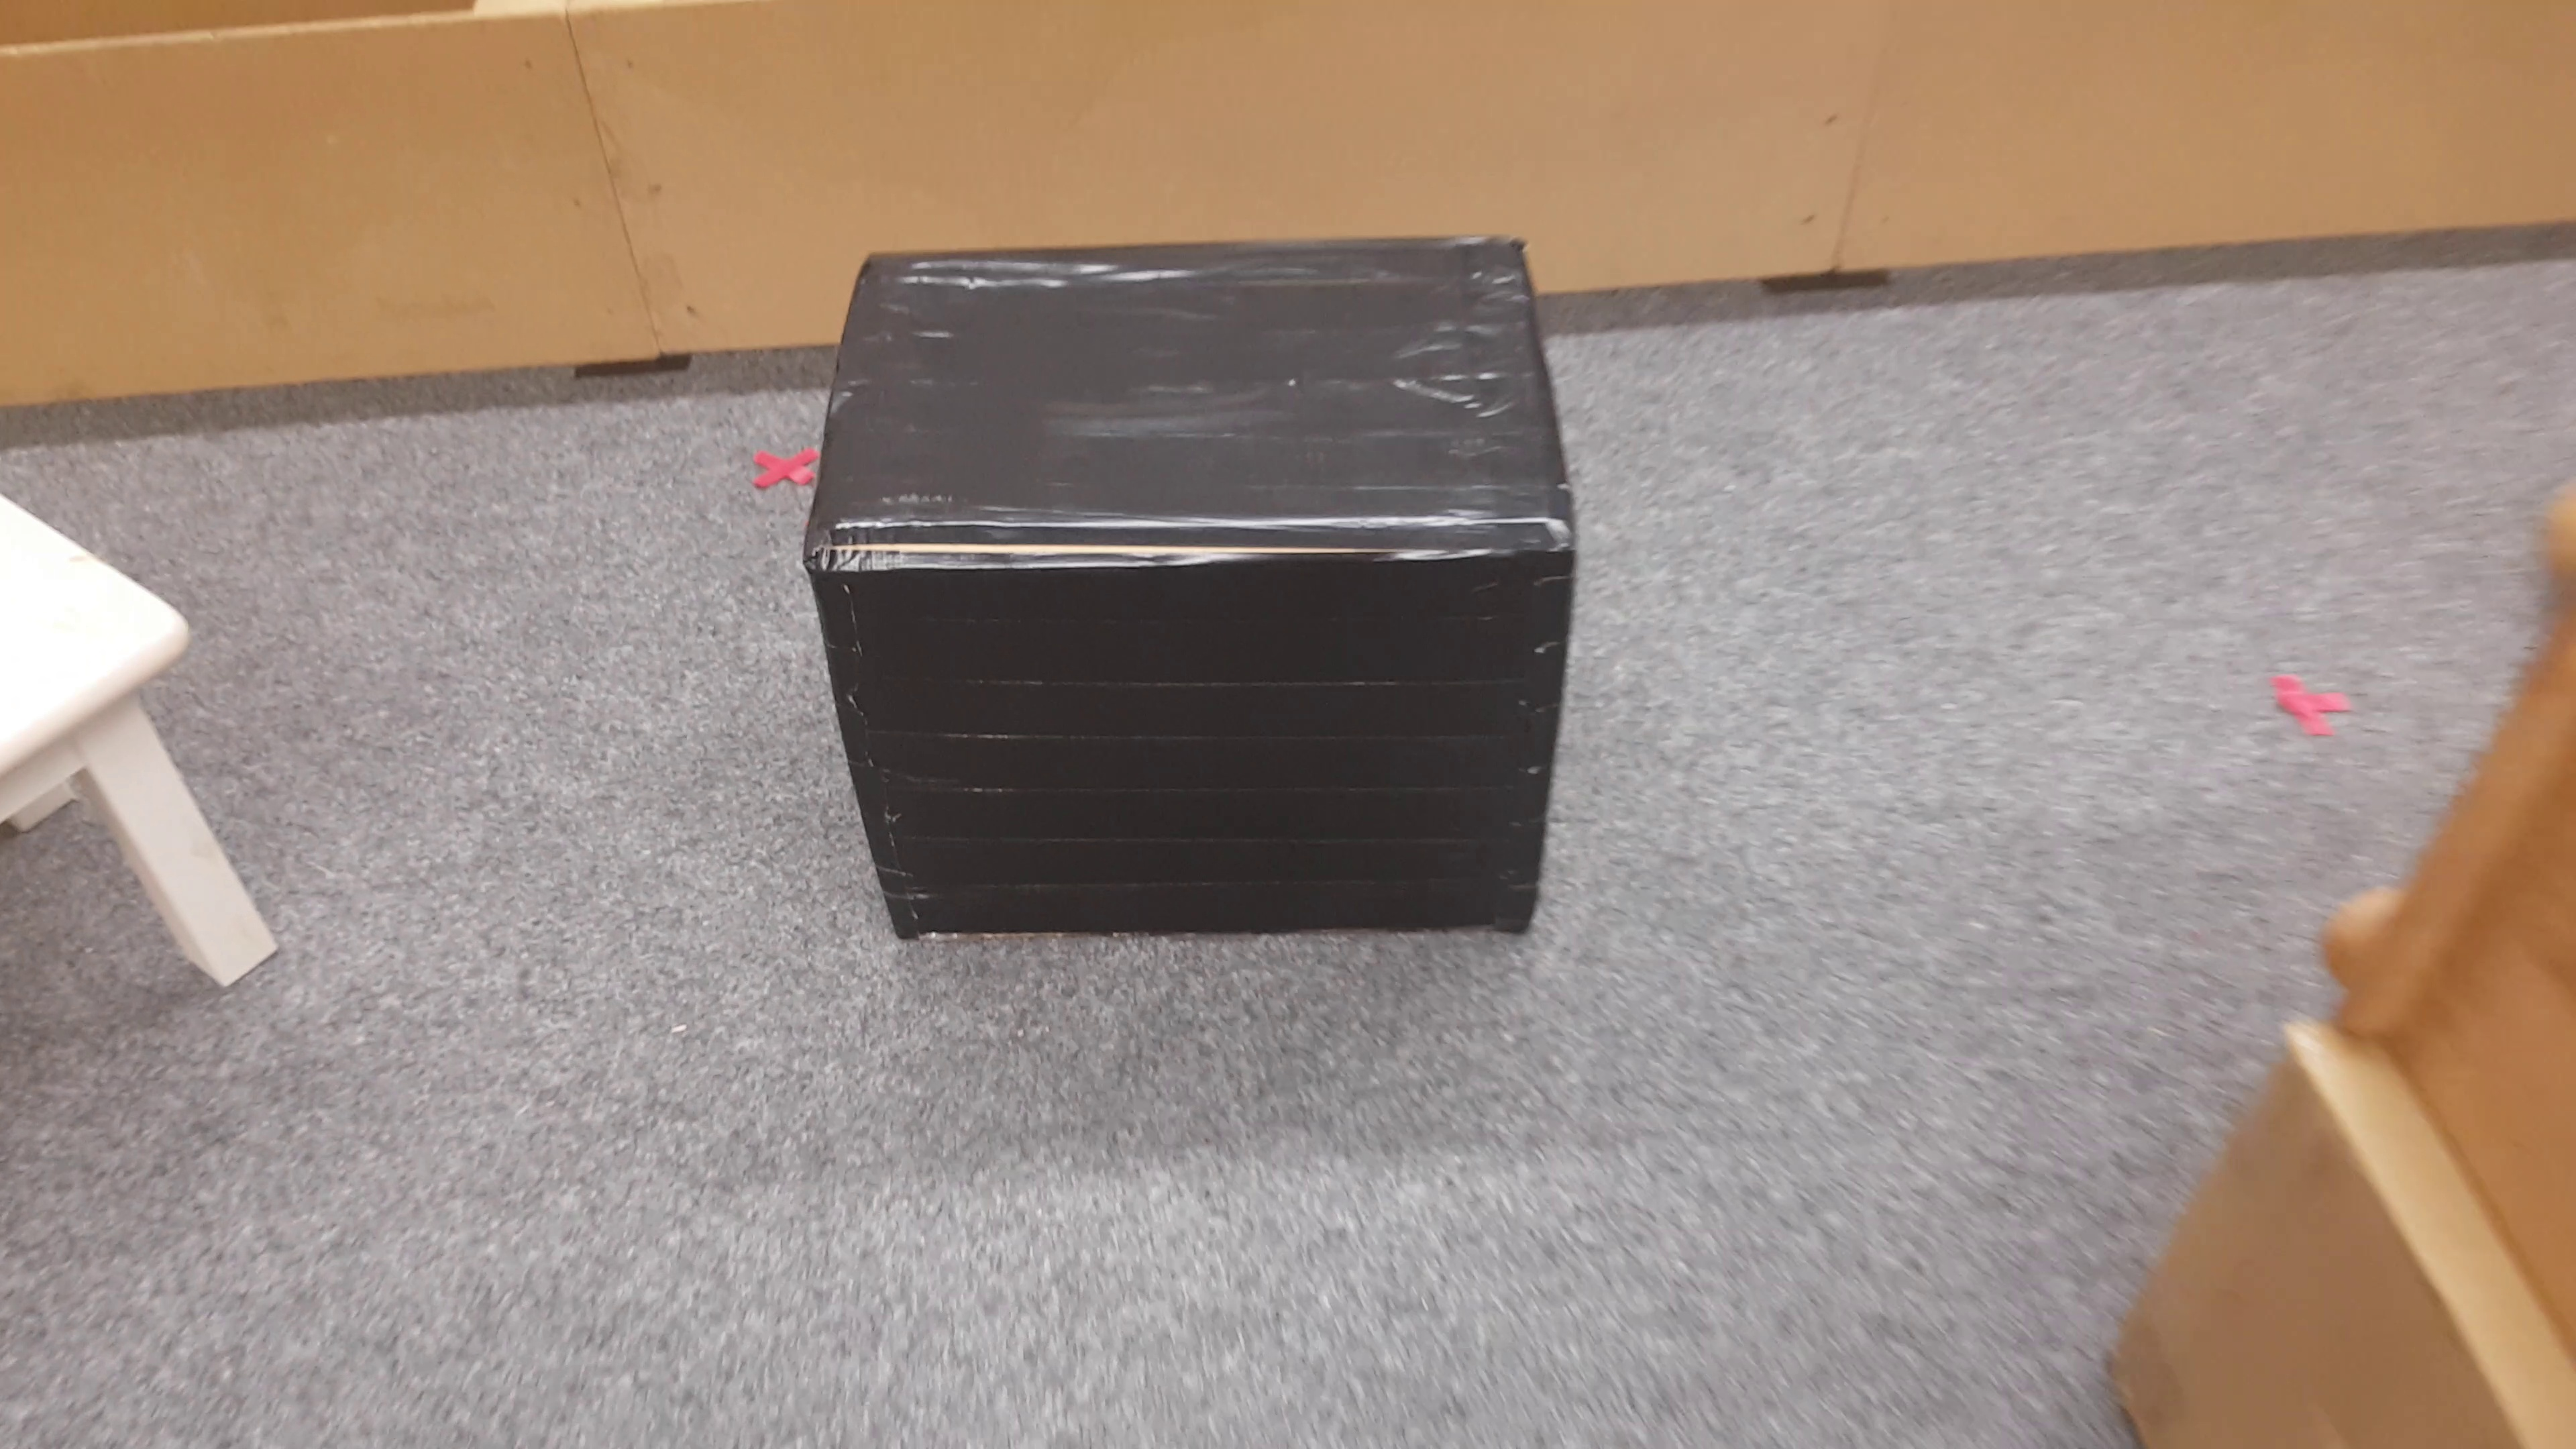push: (809, 242, 1580, 955)
